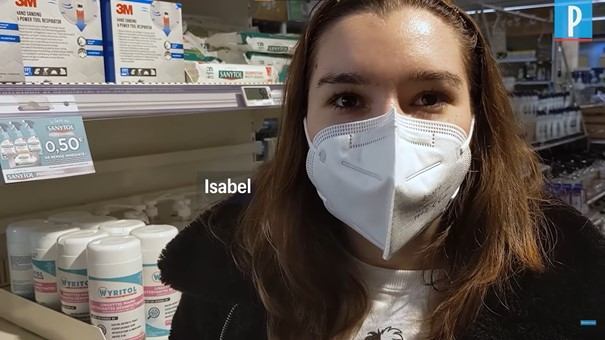with_mask: (301, 64, 486, 258)
